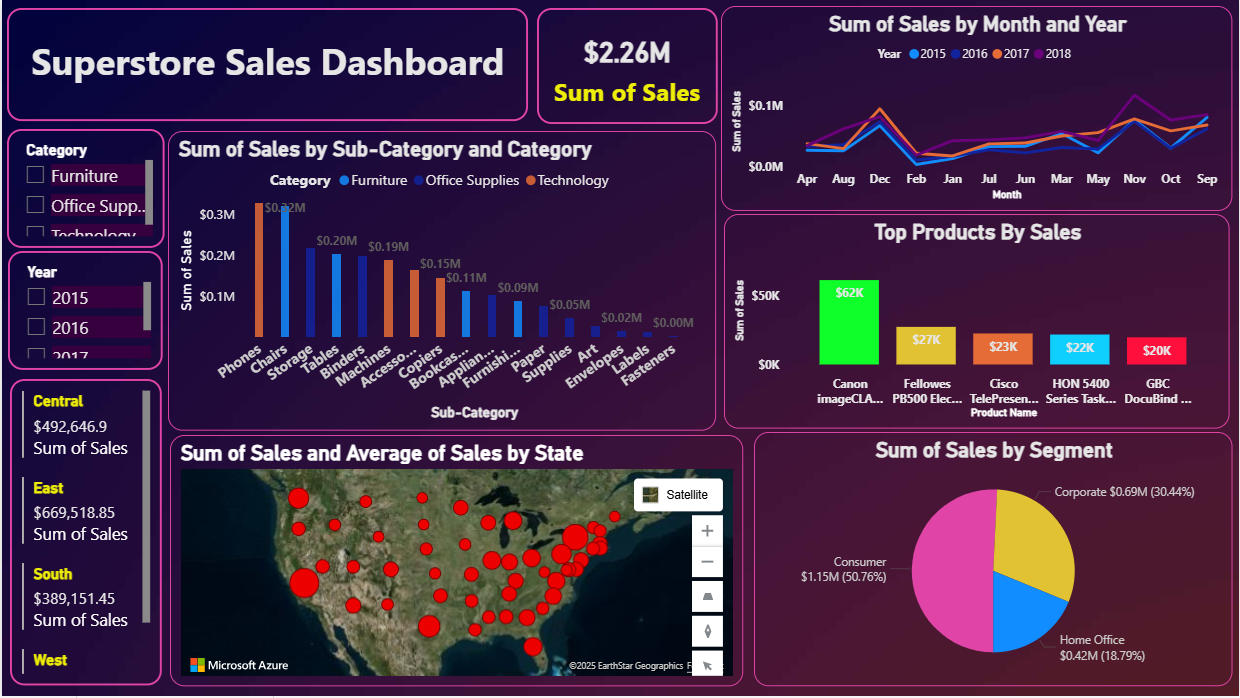

The dashboard page shown, as its layout file describes it:
{"tool":"powerbi","page":{"name":"Dashboard","canvas":[1280,720],"ordinal":0},"visuals":[{"type":"textbox","box":[5.3,7.9,539.5,117.1],"z":0},{"type":"azureMap","fields":{"Category":["Superstore sales1.State"],"Size":["Sum(Superstore sales1.Sales)"]},"box":[173.3,450,593.3,260],"z":1000},{"type":"clusteredColumnChart","fields":{"Category":["Superstore sales1.Sub-Category"],"Y":["Sum(Superstore sales1.Sales)"],"Series":["Superstore sales1.Category"]},"box":[171.7,135,566.7,310],"z":2000},{"type":"pieChart","fields":{"Category":["Superstore sales1.Segment"],"Y":["Sum(Superstore sales1.Sales)"]},"box":[778.3,446.7,495,263.3],"z":3000},{"type":"clusteredColumnChart","title":"Top Products By Sales","fields":{"Category":["Superstore sales1.Product Name"],"Y":["Sum(Superstore sales1.Sales)"]},"box":[746.7,221.7,523.3,221.7],"z":4000},{"type":"card","fields":{"Values":["Sum(Superstore sales1.Sales)"]},"box":[553.3,8.3,186.7,120],"z":5000},{"type":"multiRowCard","fields":{"Values":["Superstore sales1.Region","Sum(Superstore sales1.Sales)"]},"box":[8.3,391.7,156.7,316.7],"z":6000},{"type":"lineChart","fields":{"Category":["Superstore sales1.Month"],"Series":["Superstore sales1.Year"],"Y":["Sum(Superstore sales1.Sales)"]},"box":[743.4,6.6,528.9,211.8],"z":7000},{"type":"slicer","fields":{"Values":["Superstore sales1.Category"]},"box":[5,133.3,163.3,123.3],"z":7001},{"type":"slicer","fields":{"Values":["Superstore sales1.Year"]},"box":[6.7,260,160,123.3],"z":7002}]}

Visuals, with their boxes in screenshot pixels (x1, y1, x2, y2), scaled from the page's 1280x720 canvas onto the 1240x698 screenshot:
textbox: select_region(5, 8, 528, 121)
azureMap - Superstore sales1.State x Sum(Superstore sales1.Sales): select_region(168, 436, 743, 688)
clusteredColumnChart - Superstore sales1.Sub-Category x Sum(Superstore sales1.Sales): select_region(166, 131, 715, 431)
pieChart - Superstore sales1.Segment x Sum(Superstore sales1.Sales): select_region(754, 433, 1234, 688)
"Top Products By Sales" clusteredColumnChart: select_region(723, 215, 1230, 430)
card - Sum(Superstore sales1.Sales): select_region(536, 8, 717, 124)
multiRowCard - Superstore sales1.Region x Sum(Superstore sales1.Sales): select_region(8, 380, 160, 687)
lineChart - Superstore sales1.Month x Superstore sales1.Year: select_region(720, 6, 1233, 212)
slicer - Superstore sales1.Category: select_region(5, 129, 163, 249)
slicer - Superstore sales1.Year: select_region(6, 252, 161, 372)
